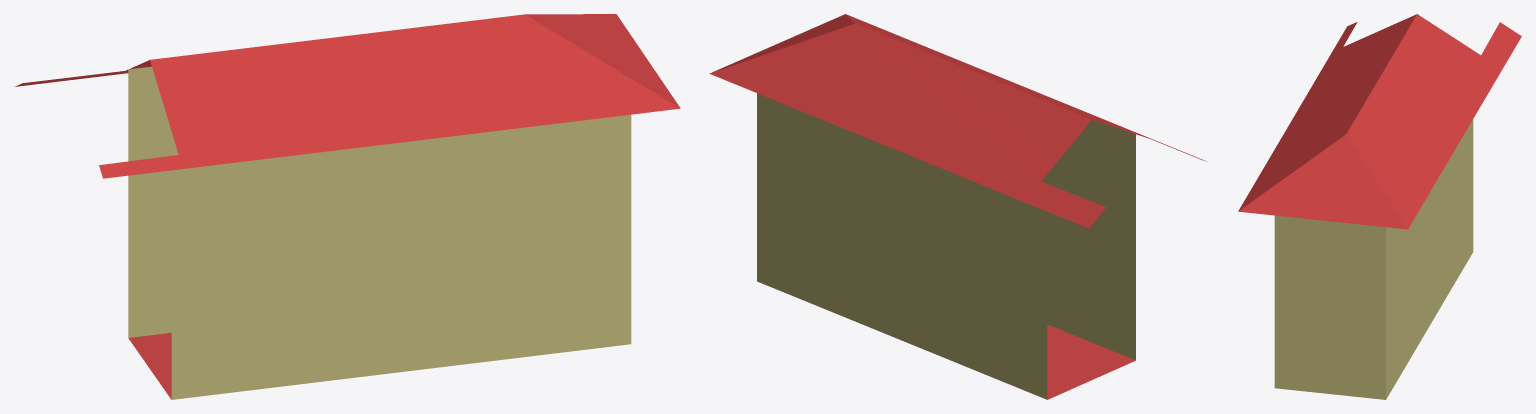
3 renders of one model, left to right at view 1: azimuth 30°, elevation 25°; view 2: azimuth 150°, elevation 25°; view 3: azimuth 270°, elevation 25°, orthographic. The views are drawn at different scales.
Visible parts, largest first — view 1: group_5, group_3, group_4, group_6; view 2: group_5, group_3, group_6; view 3: group_3, group_5, group_4.
Part boxes in pixels (x1=…): group_5: x1=128, y1=66, x2=631, y2=399; group_3: x1=15, y1=14, x2=680, y2=178; group_4: x1=101, y1=77, x2=669, y2=177; group_6: x1=128, y1=333, x2=171, y2=399; group_5: x1=757, y1=93, x2=1135, y2=399; group_3: x1=709, y1=14, x2=1206, y2=228; group_6: x1=1047, y1=324, x2=1135, y2=399; group_3: x1=1238, y1=14, x2=1521, y2=229; group_5: x1=1274, y1=119, x2=1473, y2=399; group_4: x1=1245, y1=24, x2=1355, y2=203.
Bounding box in the file's own units: 15.95 × 9.42 × 8.51.
